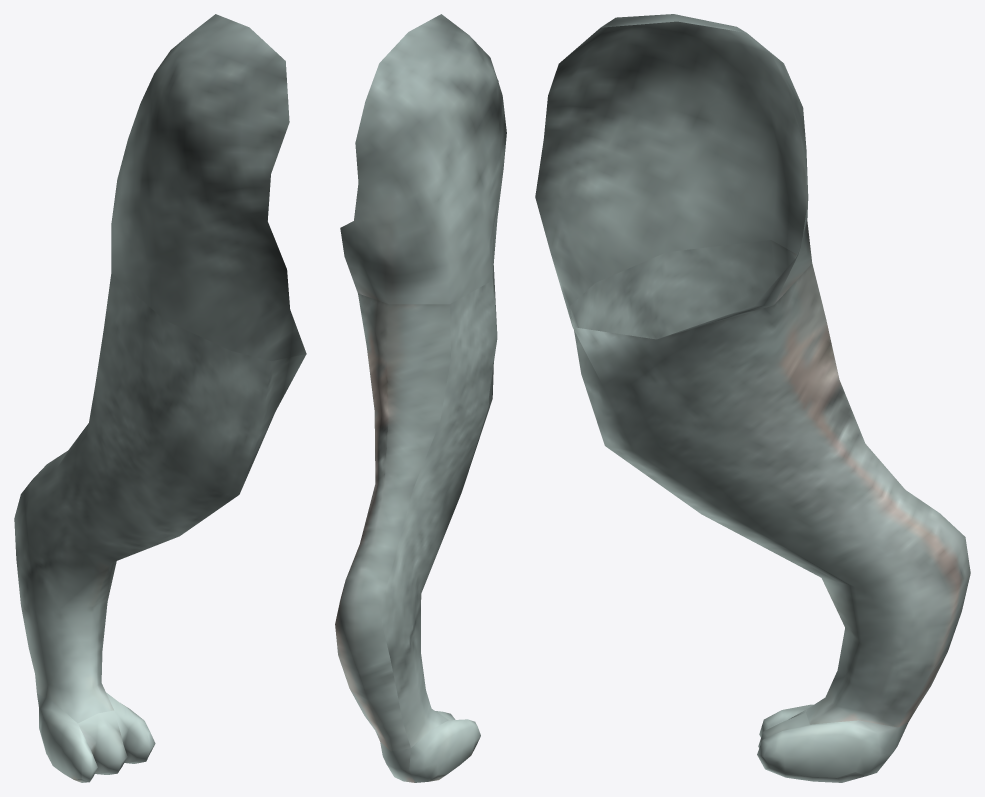
File: Lpatatd.obj
The picture shows the model from 3 angles, left to right: view 1: azimuth 30°, elevation 25°; view 2: azimuth 150°, elevation 25°; view 3: azimuth 270°, elevation 25°; orthographic projection. The views are drawn at different scales.
Visible parts, largest first — view 1: Cube.001; view 2: Cube.001; view 3: Cube.001.
Boxes of the visible parts, x1,y1,x2,y2 form: Cube.001: (14,14,306,782); Cube.001: (335,14,506,782); Cube.001: (535,14,970,782).
Bounding box in the file's own units: 0.1374 × 0.6696 × 0.3302.
Materials: 1 (1 with a texture image).
